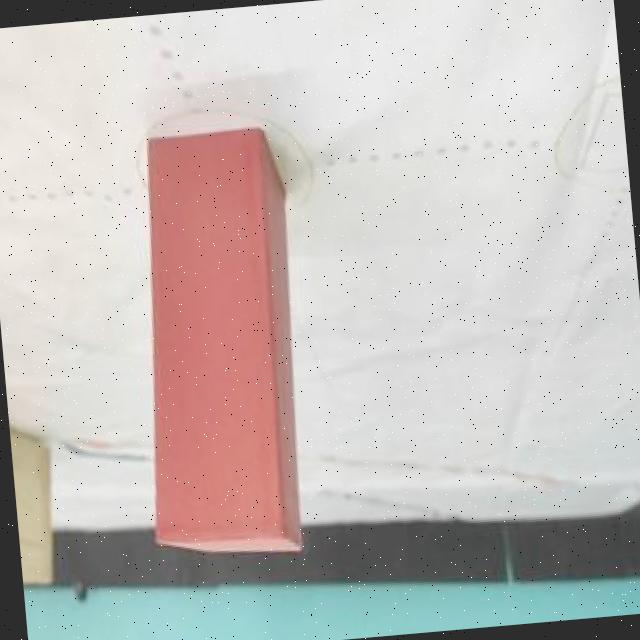redbox: (121, 127, 312, 557)
